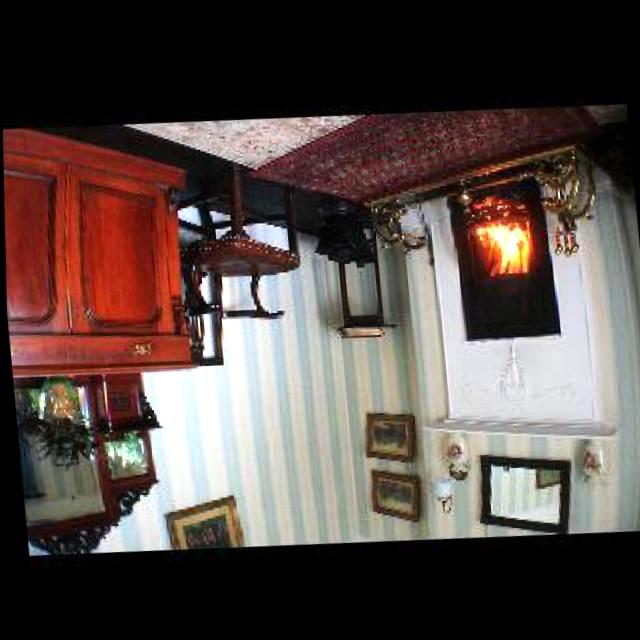fire: (463, 198, 539, 280)
